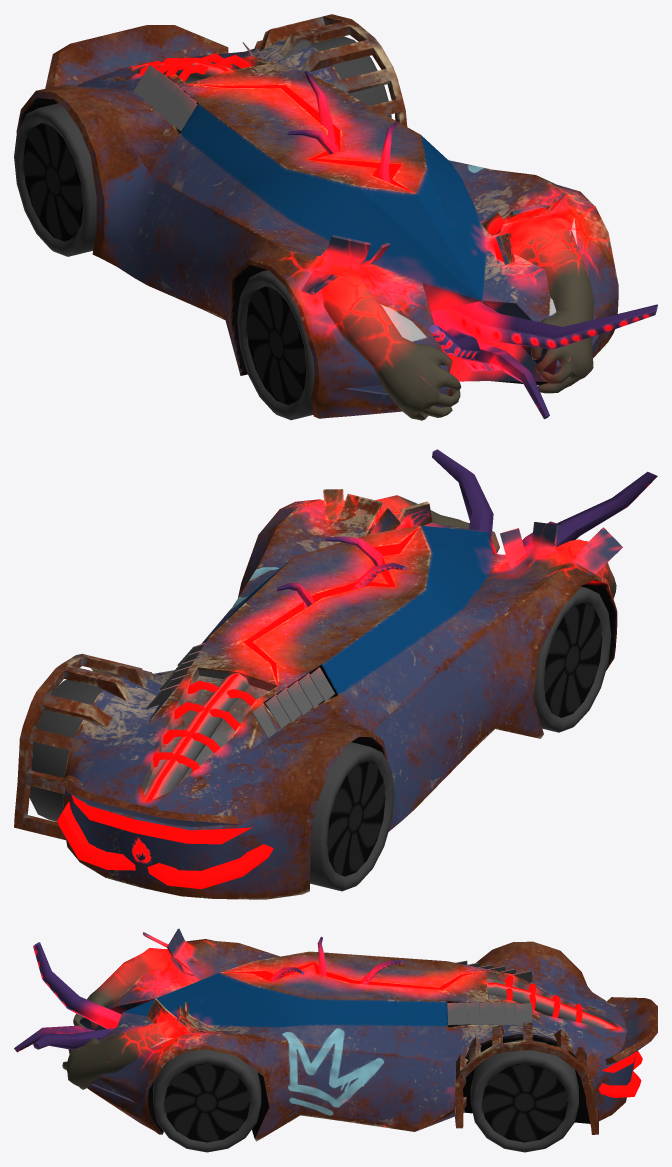
Rendered from CyberCar_Mutate.fbx.
3 views of the same model, one above another, from view 1: azimuth 30°, elevation 25°; view 2: azimuth 150°, elevation 25°; view 3: azimuth 270°, elevation 25° (orthographic). The views are drawn at different scales.
Parts seen in each view (by area): view 1: CyberCar-Mutate, CyberCarWheel-BR, CyberCarWheel-FR, CyberCarWheel-BL; view 2: CyberCar-Mutate, CyberCarWheel-BR, CyberCarWheel-FR, CyberCarWheel-BL; view 3: CyberCar-Mutate, CyberCarWheel-BL, CyberCarWheel-FL.
Part boxes in pixels (bbox=[...]): CyberCar-Mutate: bbox=[16, 14, 657, 420]; CyberCarWheel-BR: bbox=[14, 103, 96, 256]; CyberCarWheel-FR: bbox=[237, 270, 314, 420]; CyberCarWheel-BL: bbox=[310, 36, 391, 118]; CyberCar-Mutate: bbox=[14, 449, 657, 899]; CyberCarWheel-BR: bbox=[310, 742, 394, 891]; CyberCarWheel-FR: bbox=[533, 586, 611, 732]; CyberCarWheel-BL: bbox=[29, 679, 103, 821]; CyberCar-Mutate: bbox=[14, 928, 657, 1141]; CyberCarWheel-BL: bbox=[470, 1039, 578, 1152]; CyberCarWheel-FL: bbox=[153, 1049, 261, 1152].
Size of the model in its own units: 207 by 125 by 506.
